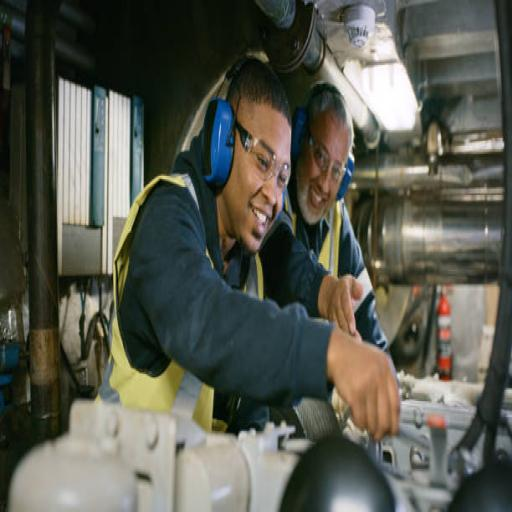No Gloves: (318, 297, 420, 462), (312, 241, 382, 378)
No Helmet: (198, 49, 294, 268), (287, 56, 361, 240)
jacket: (87, 148, 275, 447), (254, 162, 348, 436)
safety glasses: (221, 92, 297, 206), (295, 101, 357, 198)
